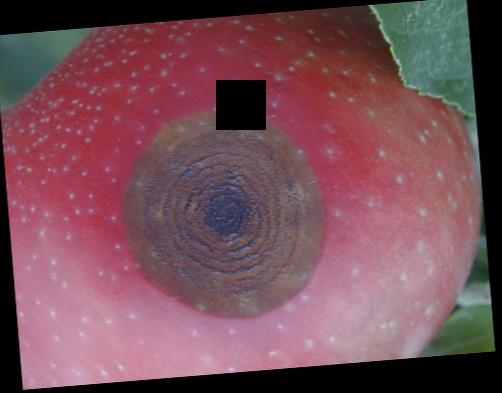rotten apple: (14, 19, 476, 368)
